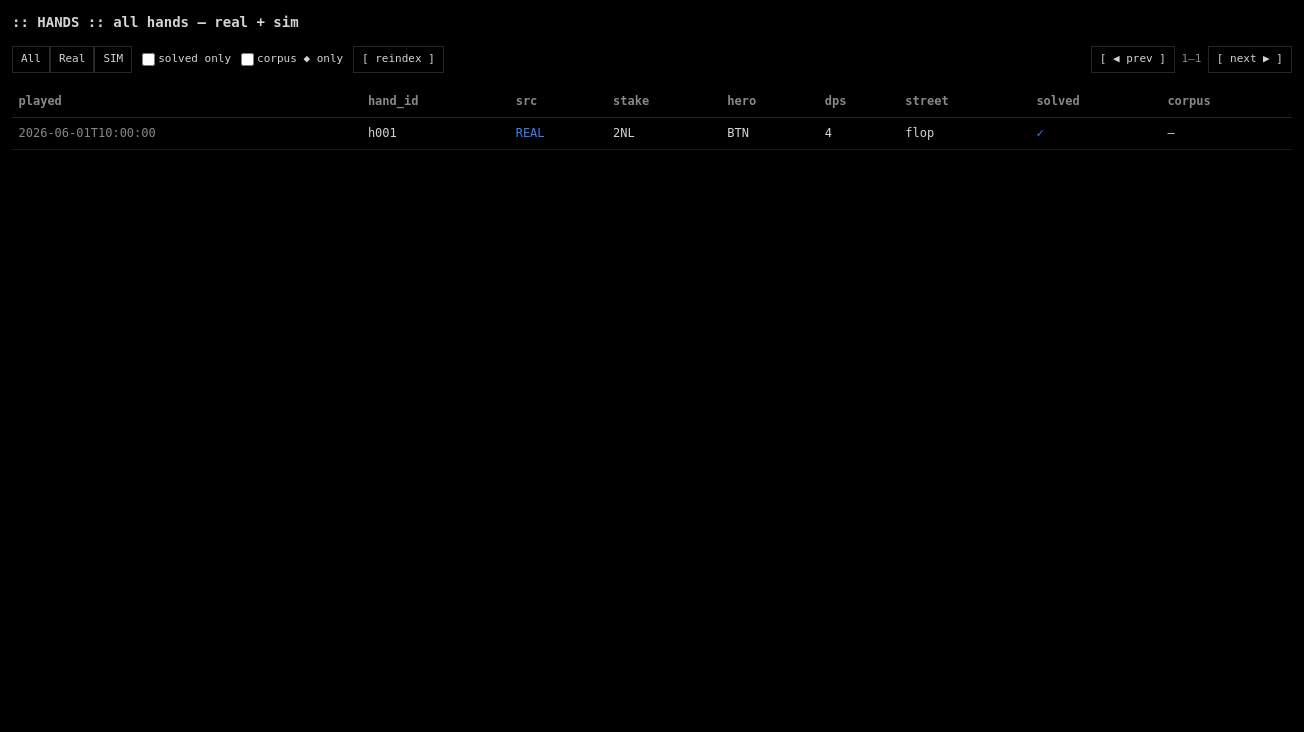
Test case: Hands route — PostflopRangePanel mount on expand › mounts PostflopRangePanel in the expanded row
Click the text "h001" at (382, 133), box [361, 117, 509, 149]
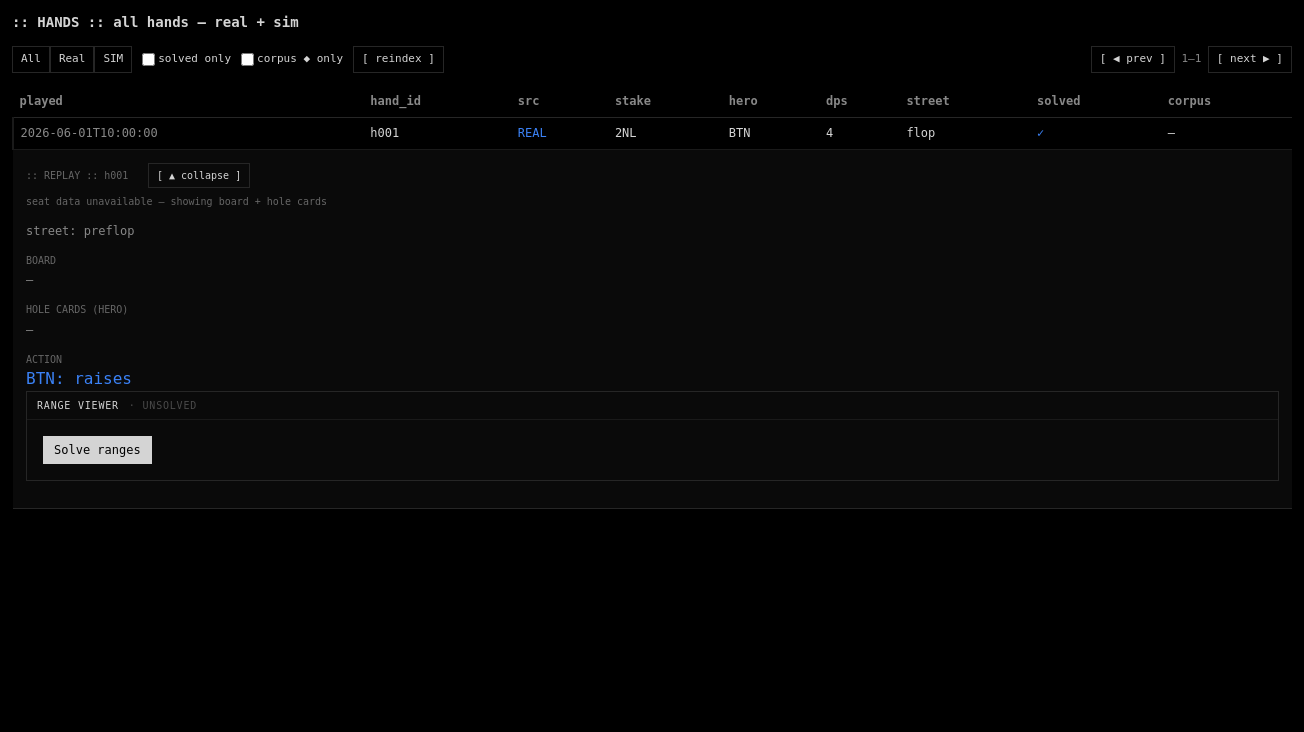
expect the text "RANGE VIEWER" is shown: met, box [37, 398, 119, 412]
